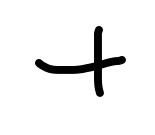plus: (35, 26, 126, 96)
